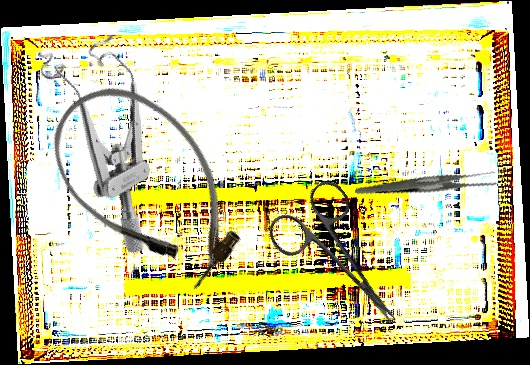Cannula: (24, 57, 271, 311)
Dressing Forceps: (354, 142, 500, 224)
Iris Scissors: (261, 175, 425, 349)
Speculum: (19, 15, 213, 257)
